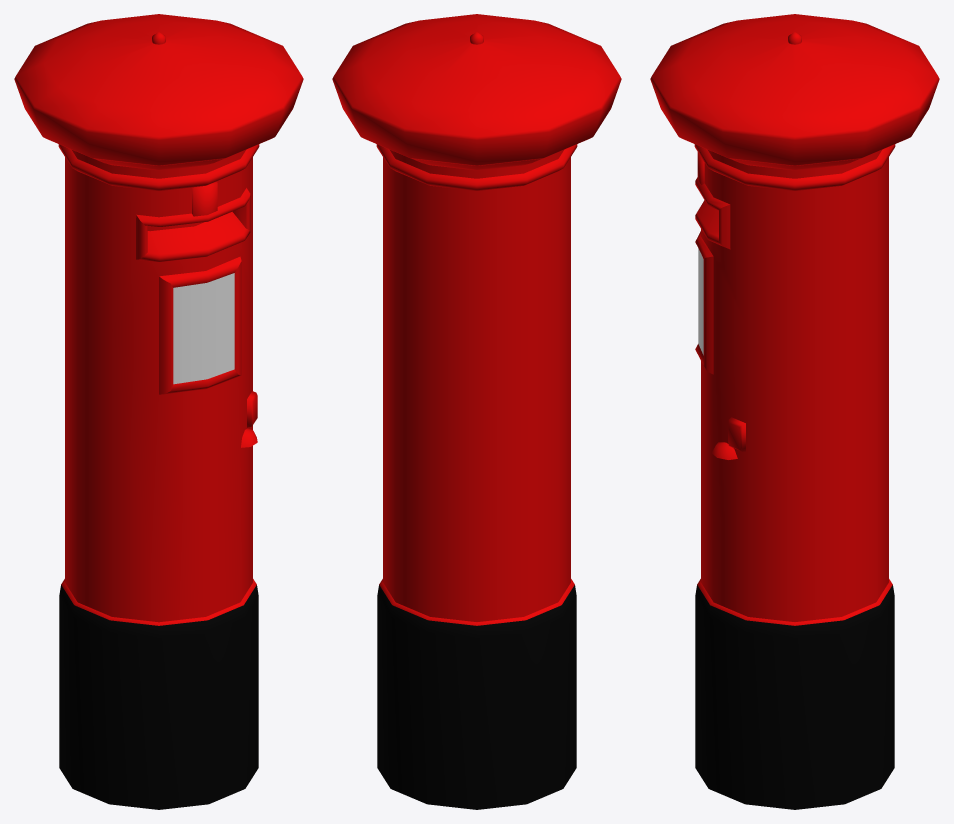
Rendered from postbox.fbx.
The picture shows the model from 3 angles, left to right: view 1: azimuth 30°, elevation 25°; view 2: azimuth 150°, elevation 25°; view 3: azimuth 270°, elevation 25°; orthographic projection.
Parts seen in each view (by area): view 1: headusOBJexport; view 2: headusOBJexport; view 3: headusOBJexport.
Part boxes in pixels (<box>): headusOBJexport: <box>14,14,303,809</box>; headusOBJexport: <box>332,14,621,809</box>; headusOBJexport: <box>650,14,939,809</box>.
Bounding box in the file's own units: 65.65 × 184 × 65.65.
